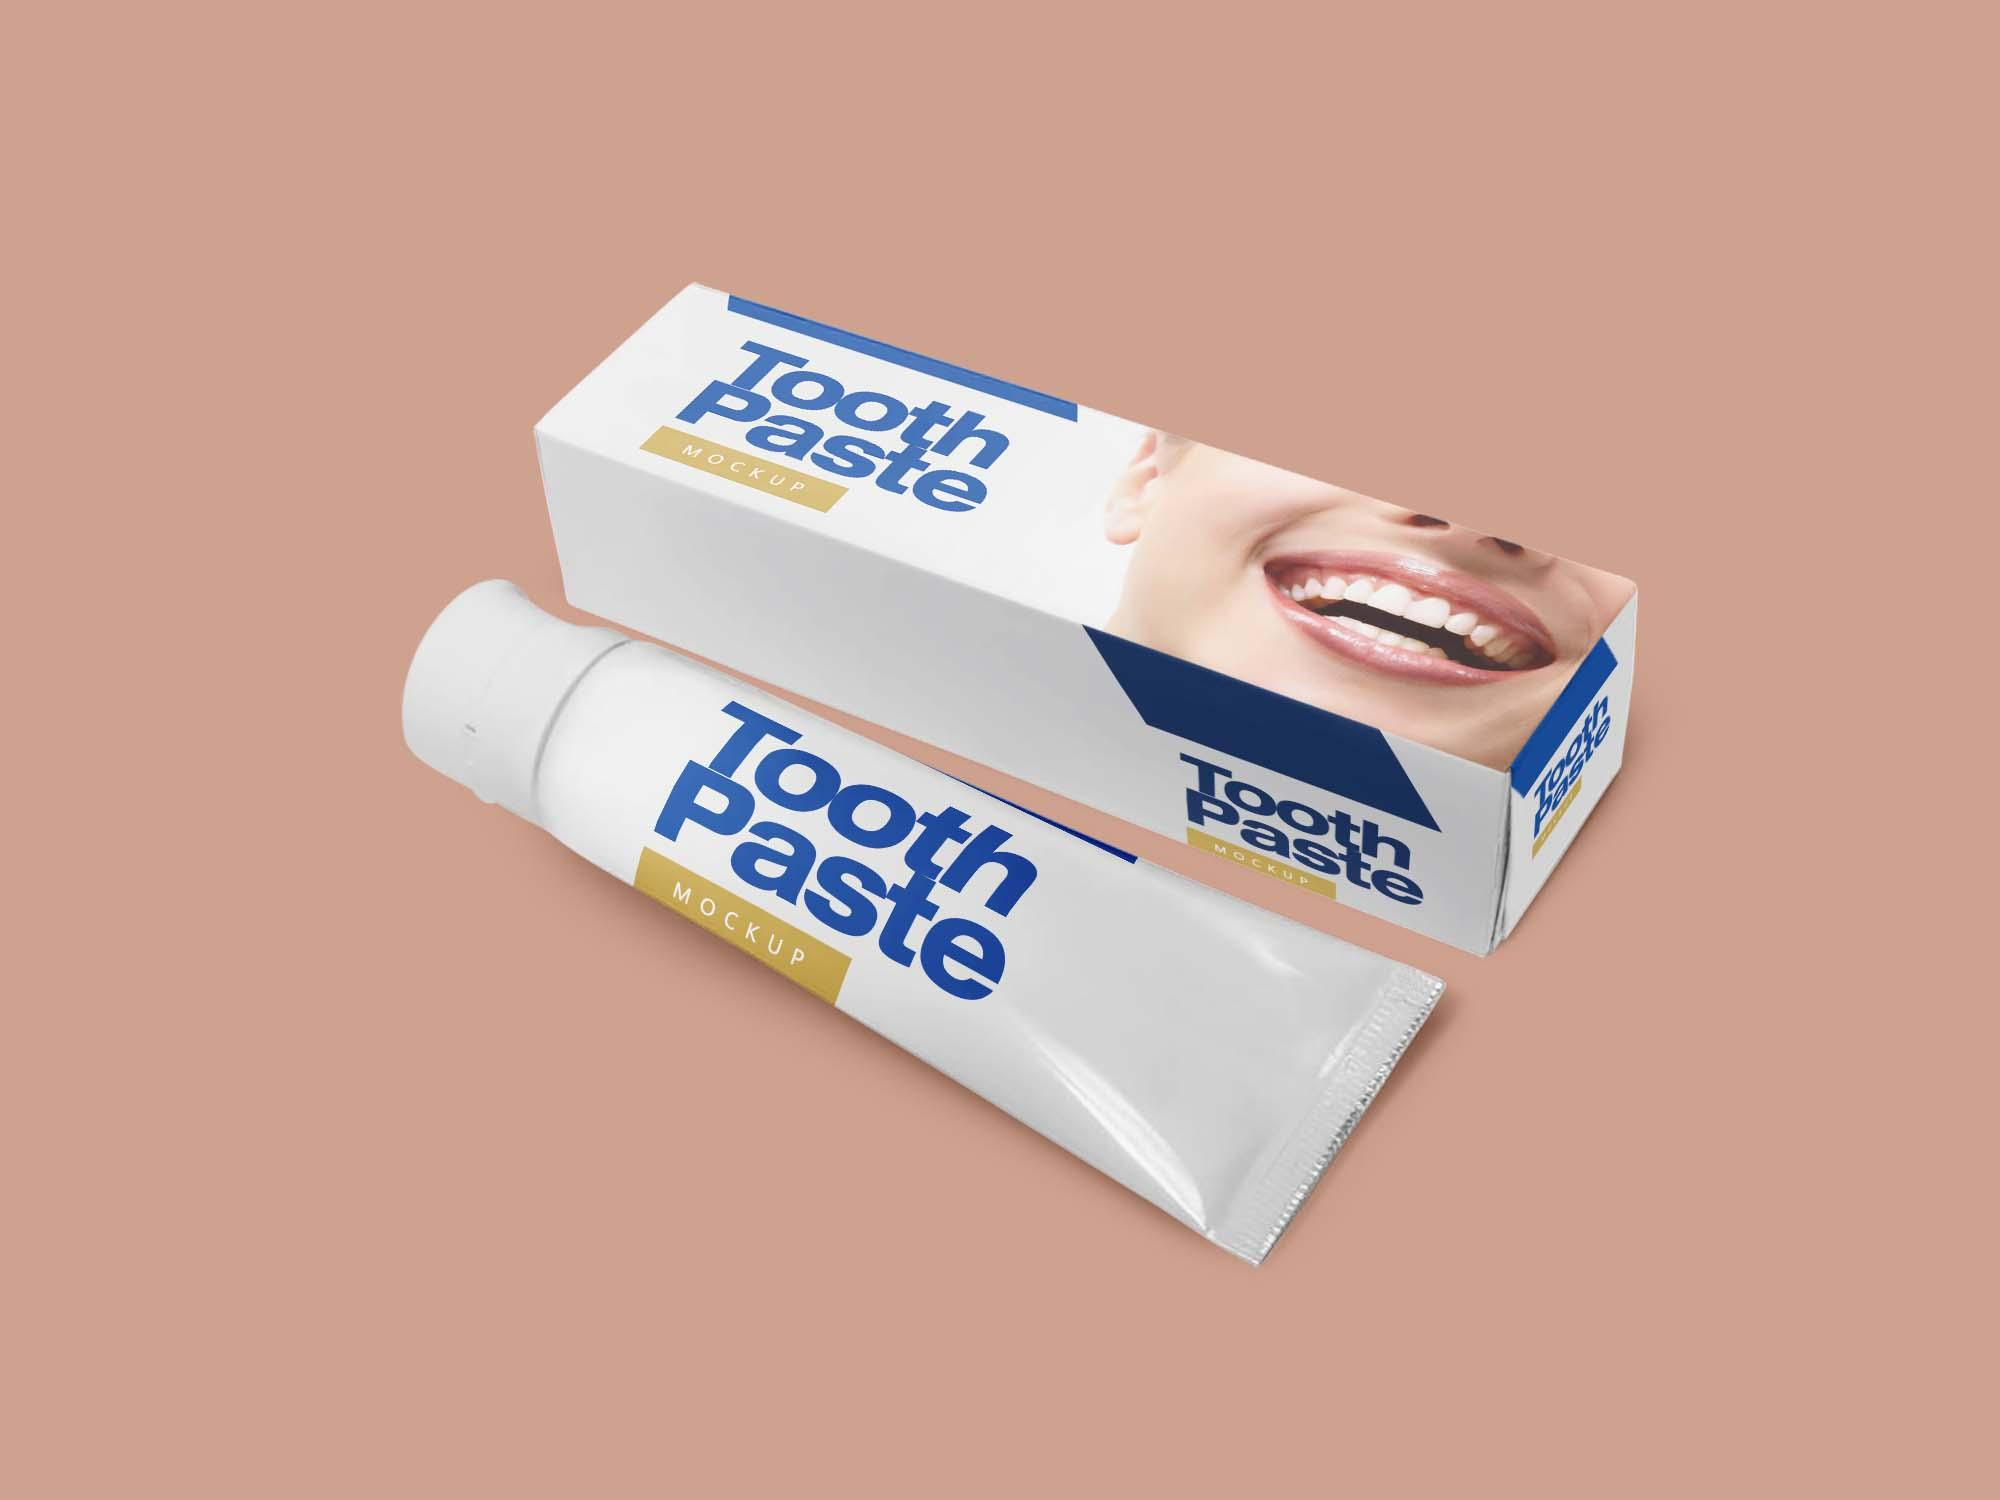toothpaste: (498, 208, 1669, 949), (365, 511, 1455, 1306)
